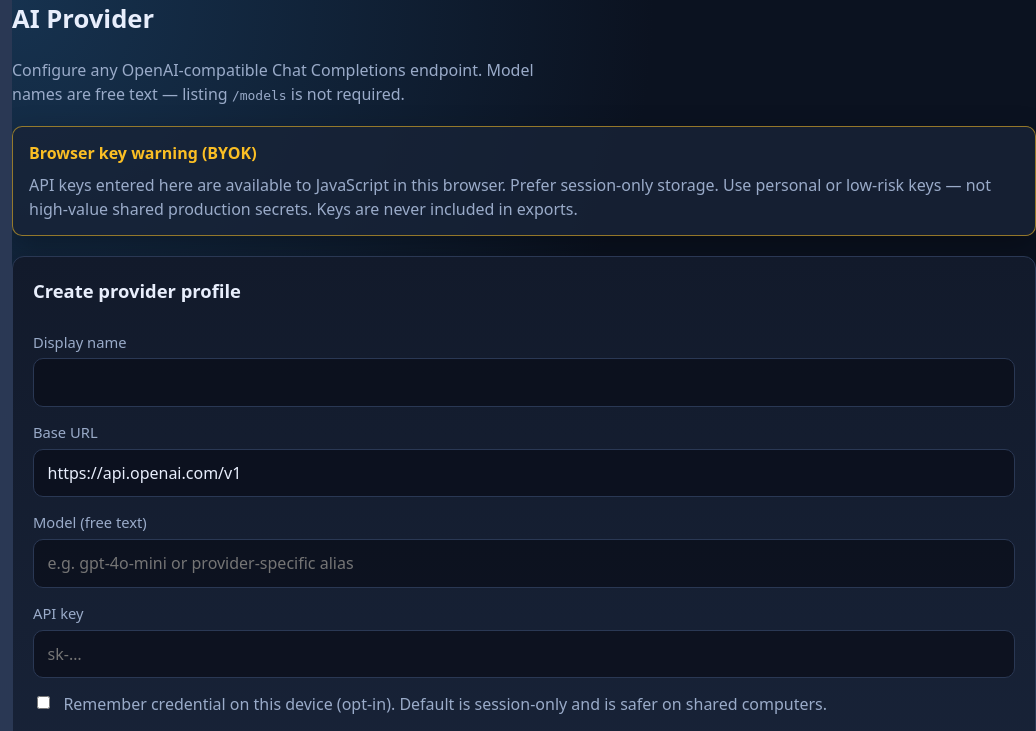
Scenario: AiSettingsPage › saves provider via service and tests connection with mocked fetch
The image size is (1036, 731).
Type "Fixture Provider" into the field labelled "Display name" at (524, 382), box [33, 358, 1015, 407]
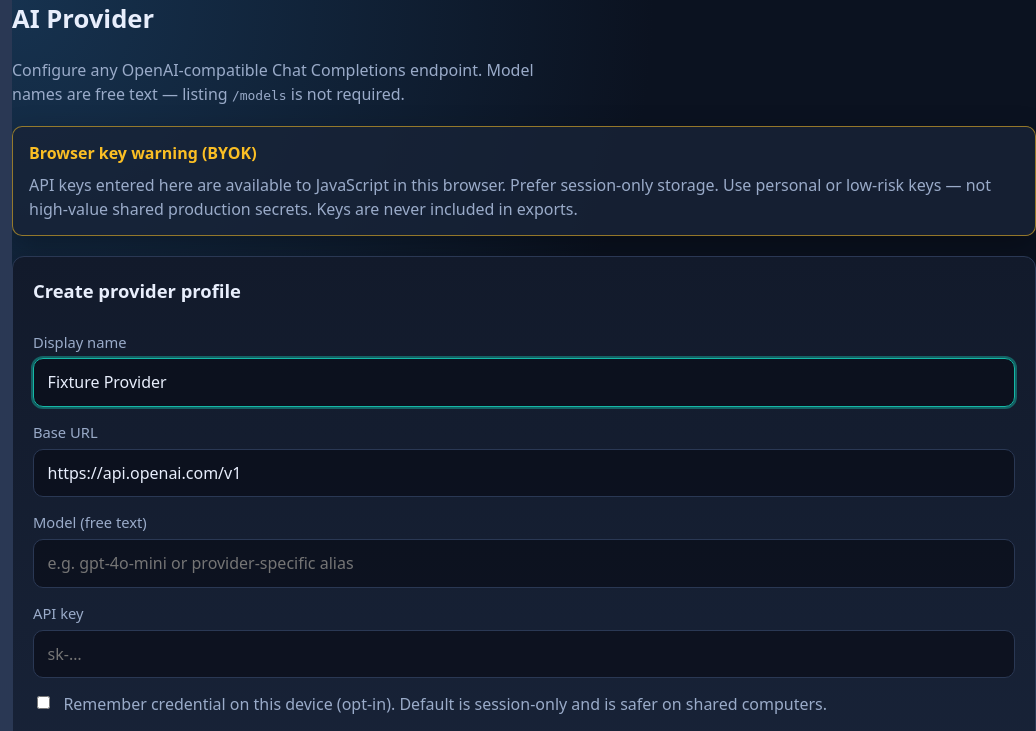
Type "https://api.example.com/v1" into the field labelled "Base URL" at (524, 473), box [33, 449, 1015, 497]
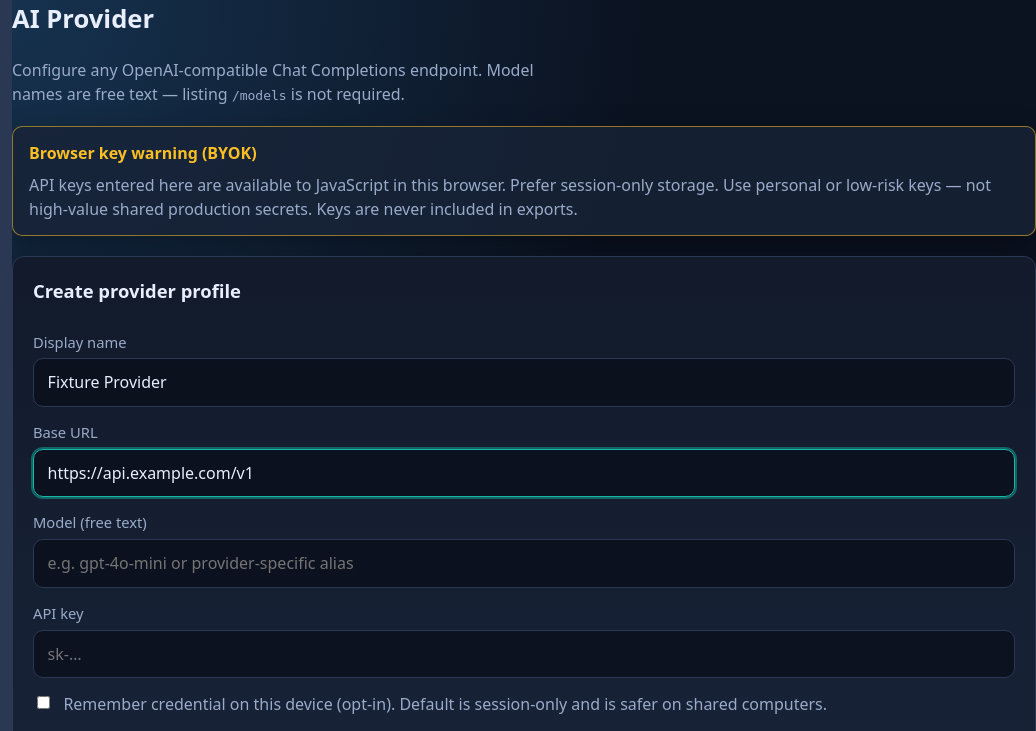
Type "fixture-model" into the field labelled "Model (free text)" at (524, 563), box [33, 539, 1015, 588]
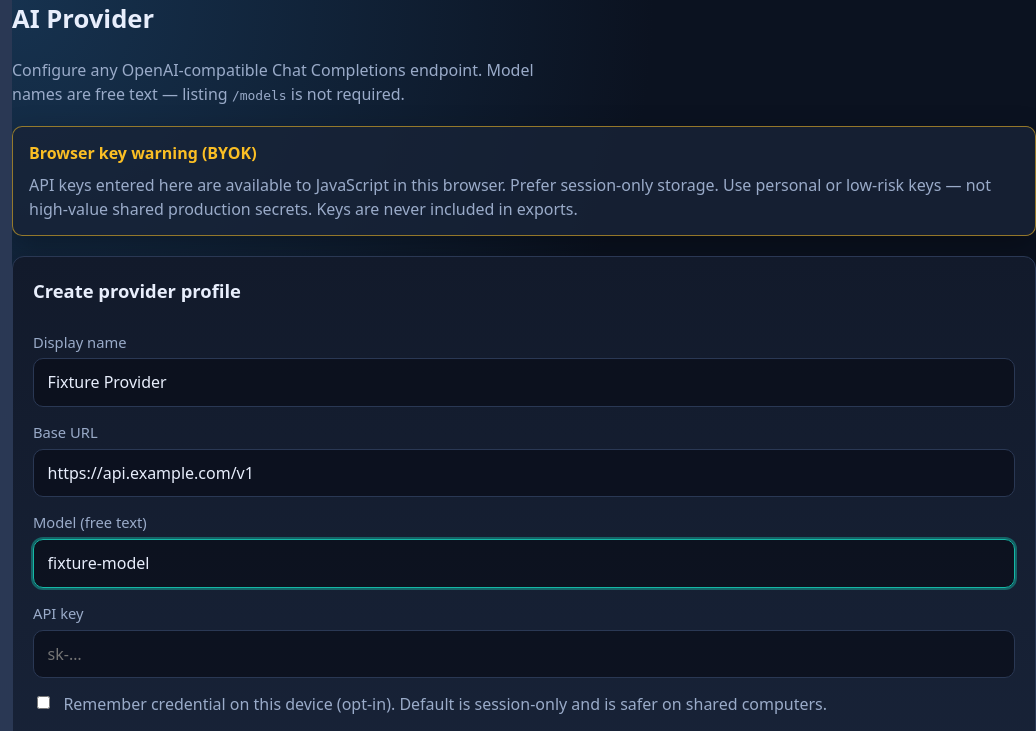
Type "sk-fixture-key" into the password field labelled "API key" at (524, 654), box [33, 630, 1015, 678]
(page scrolled)
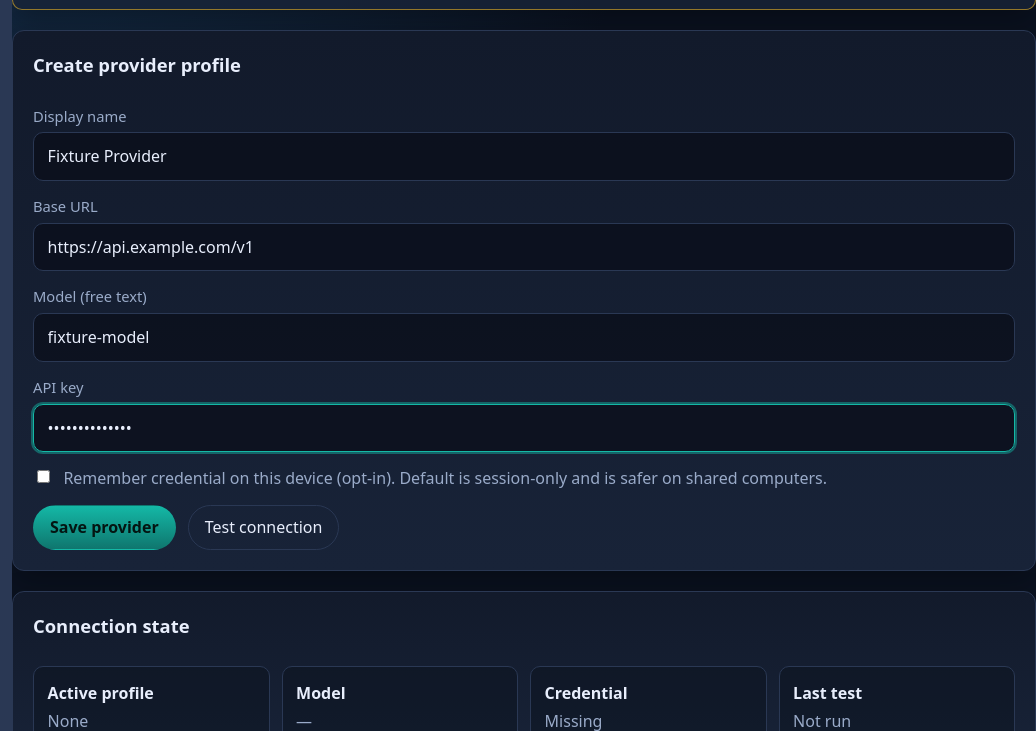
Click the button "Save provider" at (104, 527), box [33, 505, 176, 550]
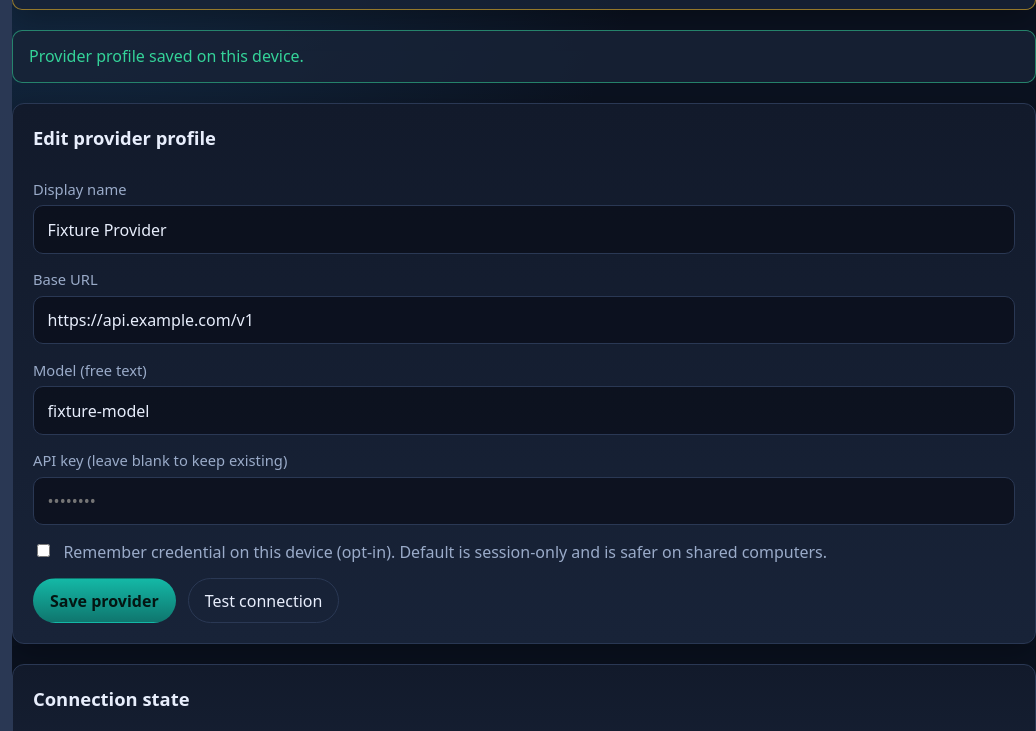
Result: the text "Provider profile saved on this device." is shown at [12, 30, 1035, 83]
Click the button "Test connection" at (264, 600), box [188, 578, 339, 623]
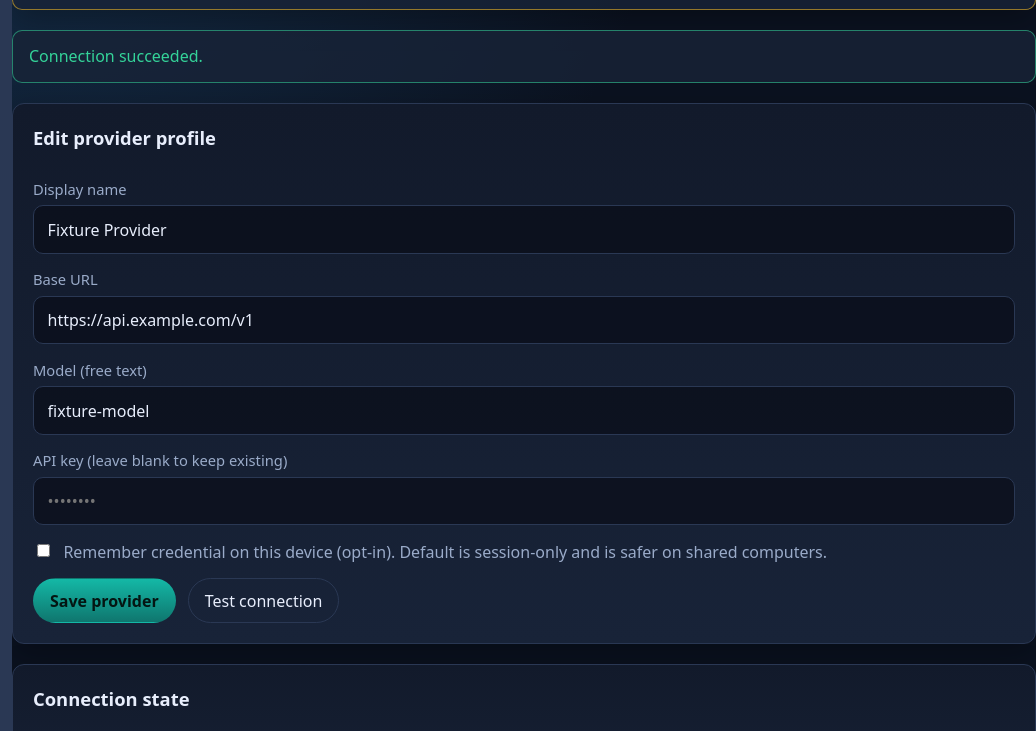
Result: the text "Connection succeeded." is shown at [12, 30, 1035, 83]
